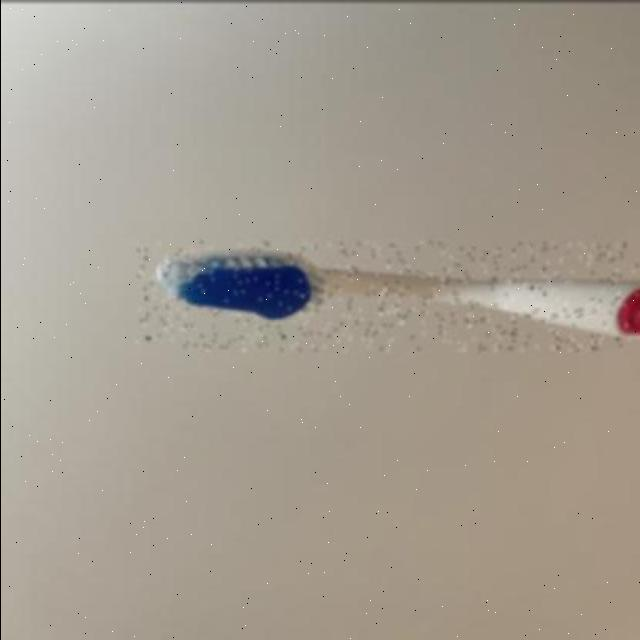toothbrush: (136, 240, 640, 350)
